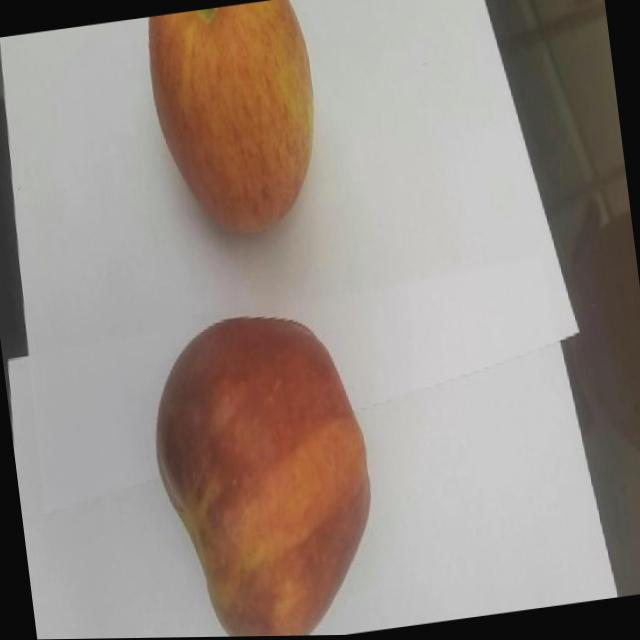Apple: (141, 302, 390, 638), (143, 0, 330, 246)
